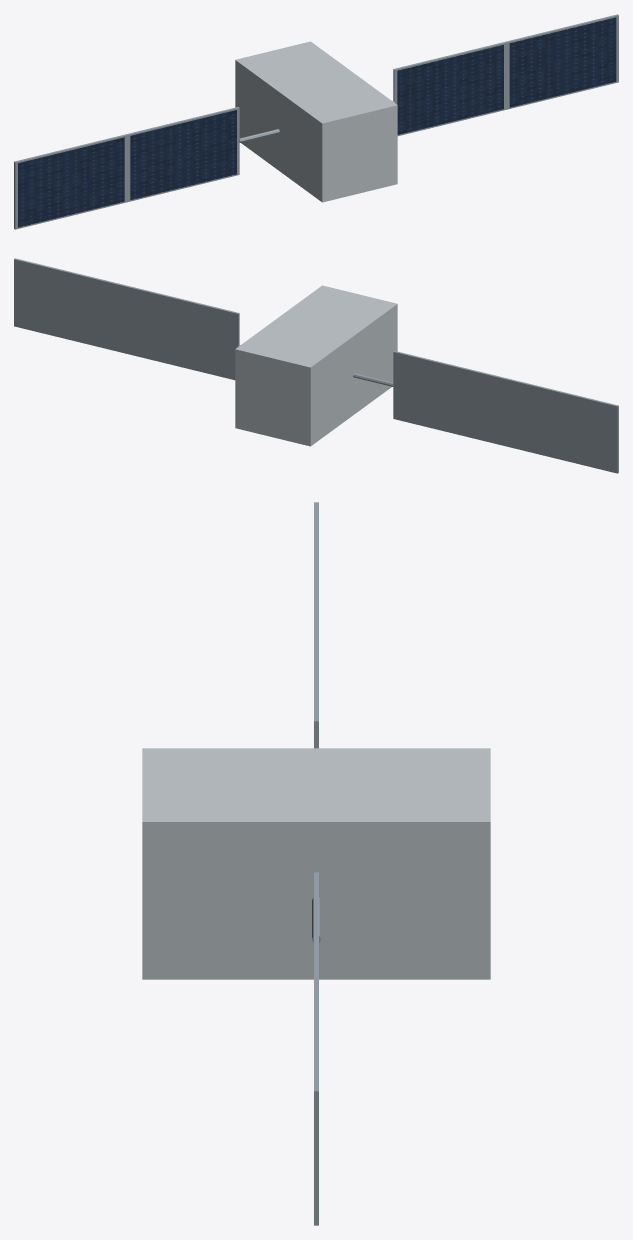
File: ref-p91-1-25634.glb
The picture shows the model from 3 angles, top to bottom: view 1: azimuth 30°, elevation 25°; view 2: azimuth 150°, elevation 25°; view 3: azimuth 270°, elevation 25°; orthographic projection. The views are drawn at different scales.
Parts seen in each view (by area): view 1: Photovoltaic laminates (×4), Spacecraft body, Array frame (×4); view 2: Array frame (×4), Spacecraft body; view 3: Spacecraft body, Array frame.
Boxes of the visible parts, <box> form: Photovoltaic laminates (×4): <box>18,17,616,227</box>; Spacecraft body: <box>235,41,397,202</box>; Array frame (×4): <box>14,14,618,229</box>; Array frame (×4): <box>14,258,618,473</box>; Spacecraft body: <box>235,285,397,446</box>; Spacecraft body: <box>142,748,490,979</box>; Array frame: <box>314,982,318,1225</box>.
Size of the model in its own units: 16 by 2 by 4.
Materials: 3 (1 with a texture image).
